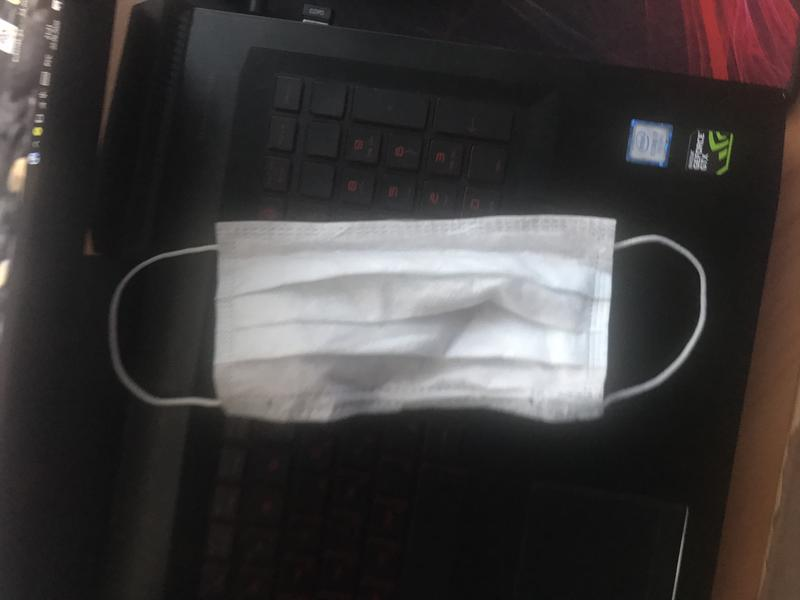medical_mask: (108, 216, 706, 421)
